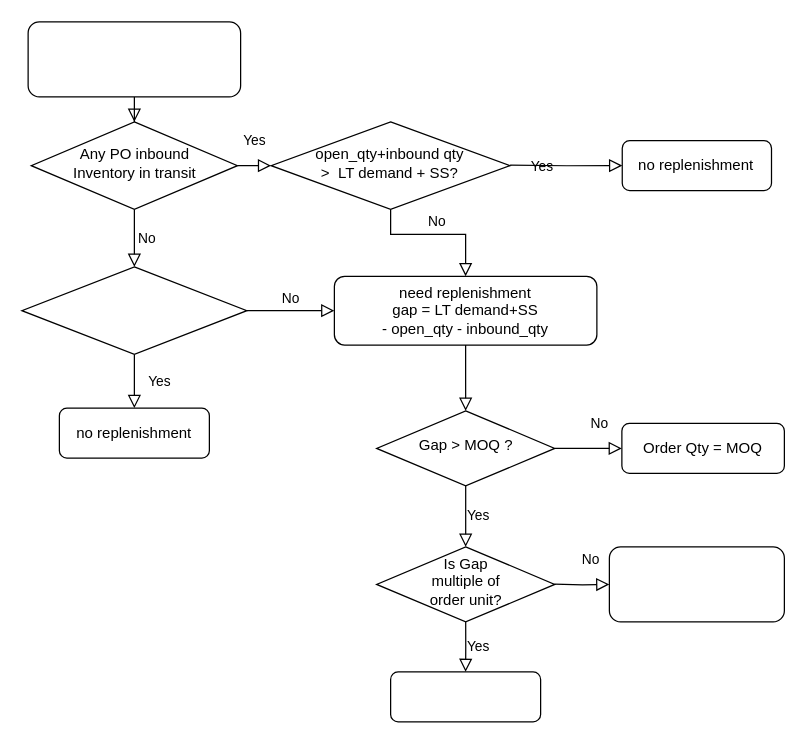
This 806x744 diagram has some shape labels left out. The centre of each missing label's shape, as x and y in pixels:
"open_qty > LT demand + SS ?" belongs at (134,310).
"Order Qty = Gap" belongs at (465,696).
"Order Qty = minimal multiple of unit larger than Gap" belongs at (696,584).
"SKU Forecast Demand SKU inventory level SKU master" belongs at (134,59).
